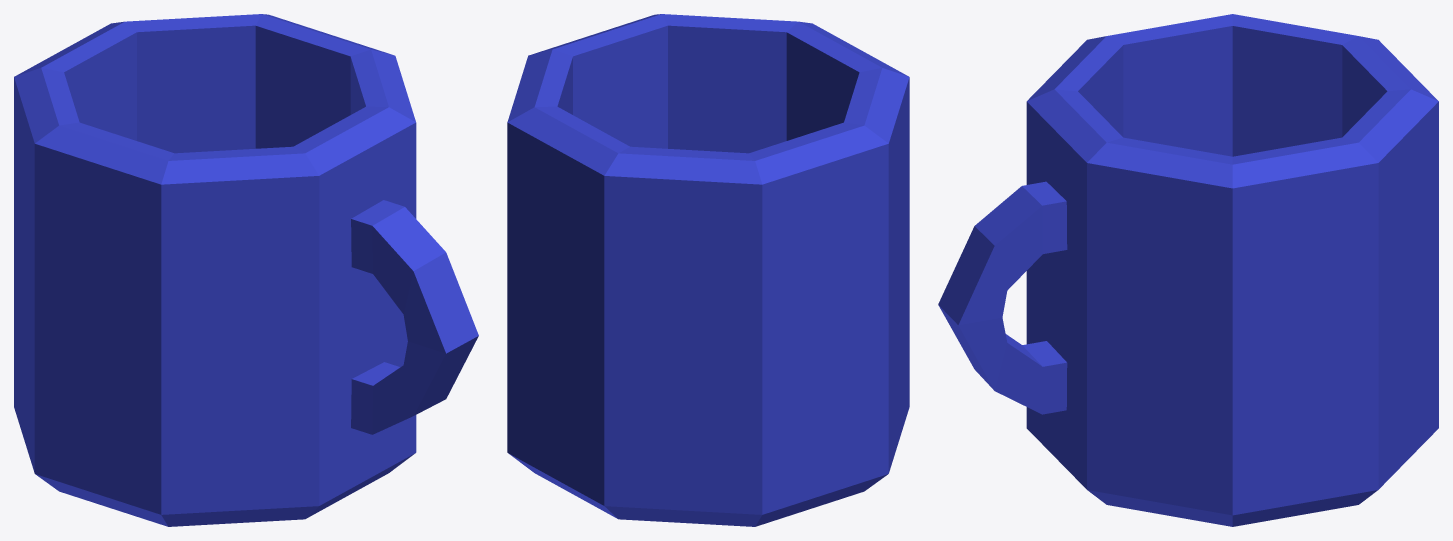
File: Blue_Mug.fbx
3 views of the same model, side by side, from view 1: azimuth 30°, elevation 25°; view 2: azimuth 150°, elevation 25°; view 3: azimuth 270°, elevation 25° (orthographic).
Parts seen in each view (by area): view 1: Blue_Mug; view 2: Blue_Mug; view 3: Blue_Mug.
Boxes of the visible parts, left/top/right/bottom form: Blue_Mug: left=14, top=14, right=478, bottom=526; Blue_Mug: left=507, top=14, right=909, bottom=526; Blue_Mug: left=938, top=14, right=1438, bottom=526.
Size of the model in its own units: 54.77 by 53.12 by 66.53.
